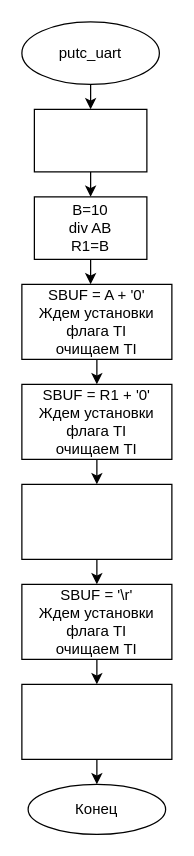
Image size: 194x856. Some labels were removed from this diagram. Here are the shapes that lost their labels. From the top down, the centre of each, then its label:
At [90,140]: "B=10 div AB R2=B".
At [96,521]: "SBUF = R2 + '0' Ждем установки флага TI очищаем TI".
At [96,721]: "SBUF = '\n' Ждем установки флага TI очищаем TI".
